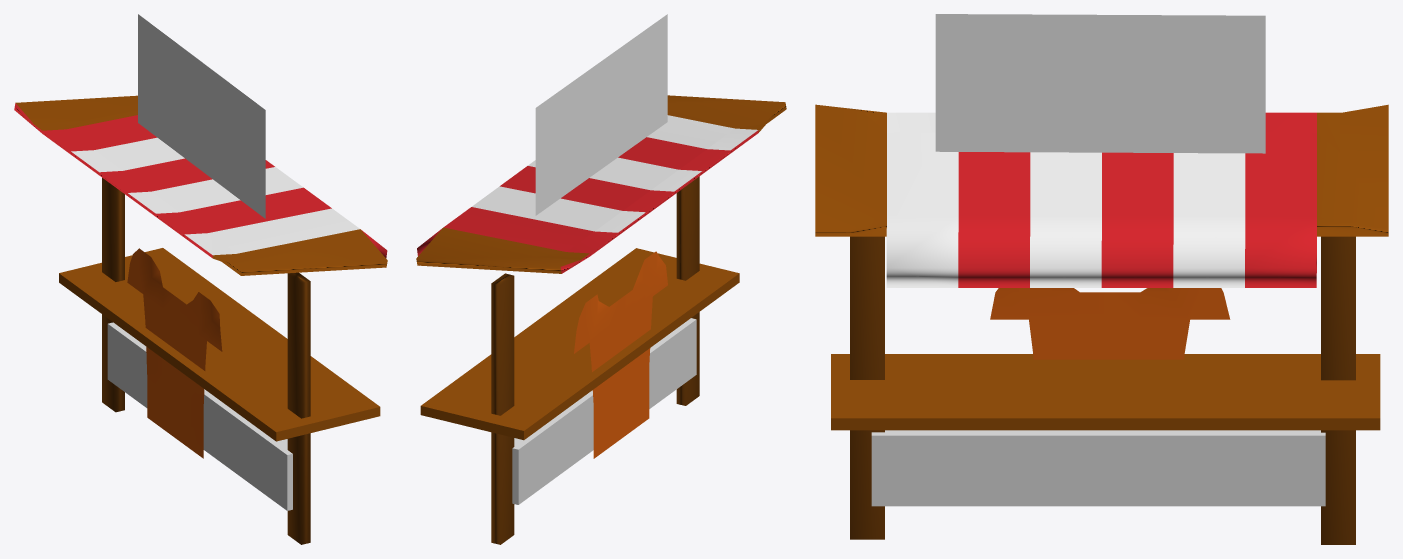
The model's file is market.fbx.
3 renders of one model, left to right at view 1: azimuth 30°, elevation 25°; view 2: azimuth 150°, elevation 25°; view 3: azimuth 270°, elevation 25°, orthographic. The views are drawn at different scales.
Parts seen in each view (by area): view 1: Cube.004, Cube.003, Plane, tshirt, Cube.002, Cube, Cube.001; view 2: Cube.004, Cube.003, Plane, tshirt, Cube.002, Cube.001, Cube; view 3: Cube.004, Plane, Cube.003, Cube.002, tshirt, Cube.001, Cube.
Boxes of the visible parts, x1,y1,x2,y2 form: Cube.004: (14,95,387,275); Cube.003: (59,248,380,441); Plane: (138,14,265,218); tshirt: (127,248,222,458); Cube.002: (107,322,292,510); Cube: (287,272,310,544); Cube.001: (102,178,124,412); Cube.004: (416,95,786,273); Cube.003: (420,248,739,440); Plane: (535,14,667,215); tshirt: (574,251,667,458); Cube.002: (512,318,696,504); Cube.001: (491,273,514,544); Cube: (676,176,699,405); Cube.004: (815,104,1388,287); Plane: (935,14,1265,153); Cube.003: (831,354,1380,430); Cube.002: (871,430,1325,506); tshirt: (990,288,1230,359); Cube.001: (1321,236,1355,544); Cube: (850,236,884,539).
Size of the model in its own units: 335 by 760 by 754.
